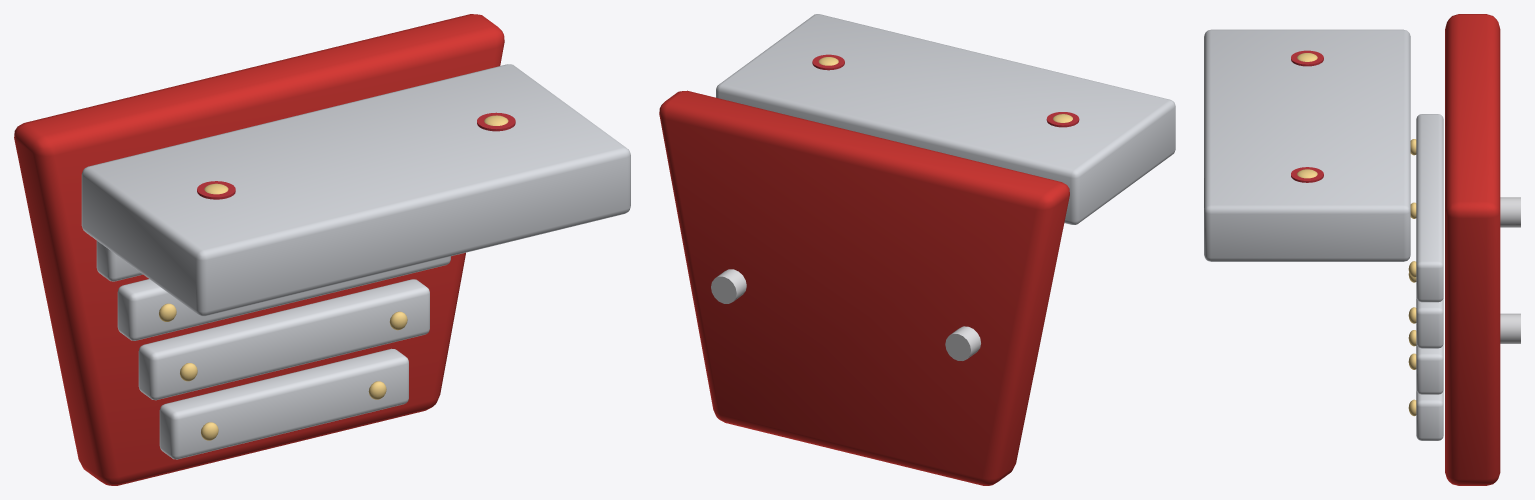
3 views of the same model, side by side, from view 1: azimuth 30°, elevation 25°; view 2: azimuth 150°, elevation 25°; view 3: azimuth 270°, elevation 25° (orthographic). The views are drawn at different scales.
Parts seen in each view (by area): view 1: glockenspiel_v5_default; view 2: glockenspiel_v5_default; view 3: glockenspiel_v5_default.
Boxes of the visible parts, x1=… form: glockenspiel_v5_default: x1=14, y1=14, x2=630, y2=485; glockenspiel_v5_default: x1=659, y1=14, x2=1175, y2=485; glockenspiel_v5_default: x1=1204, y1=14, x2=1520, y2=485.
Size of the model in its own units: 0.6722 by 0.5 by 0.46.
